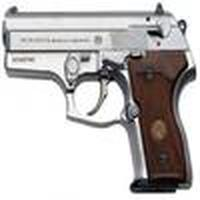gun: (6, 7, 193, 198)
